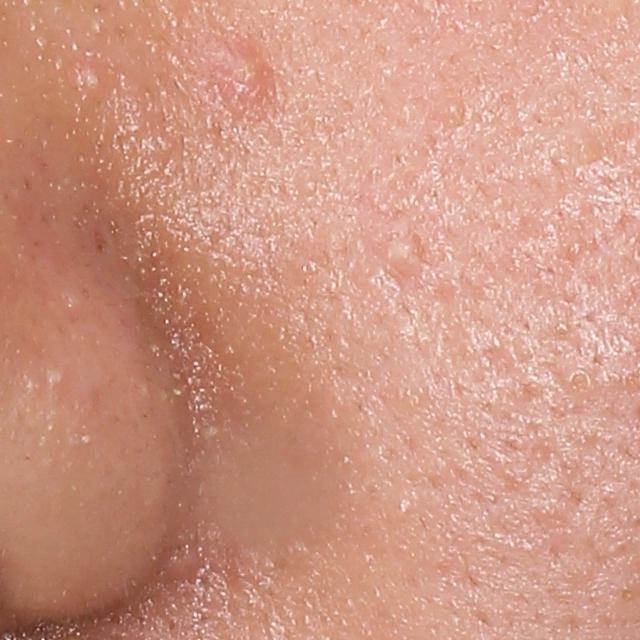comedo: (561, 366, 597, 394), (78, 66, 107, 95), (440, 95, 466, 121)
papule: (207, 39, 272, 106), (378, 218, 432, 277)
